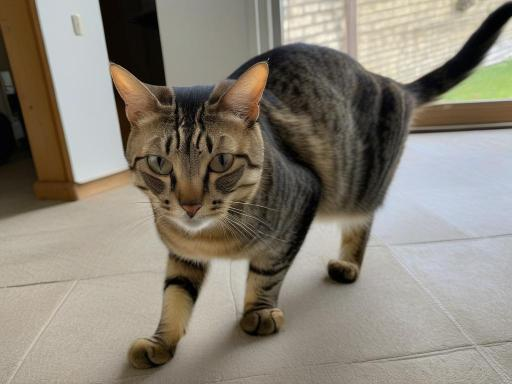cat_standing: (111, 2, 512, 368)
